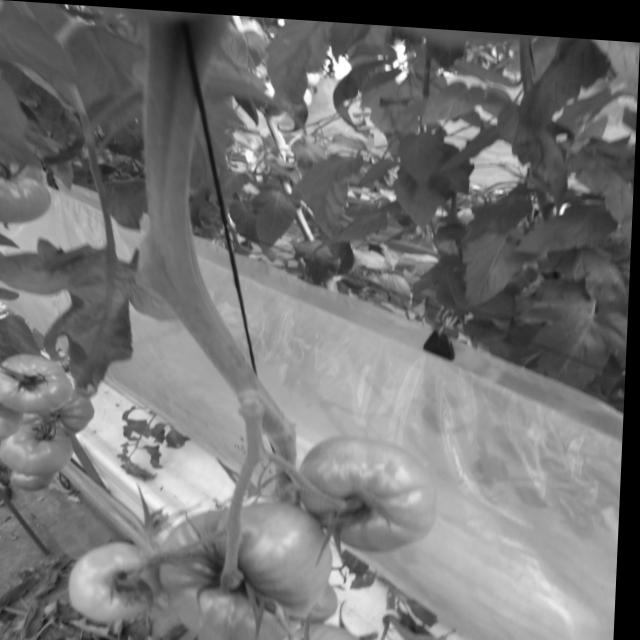yesil: (63, 393, 446, 640)
